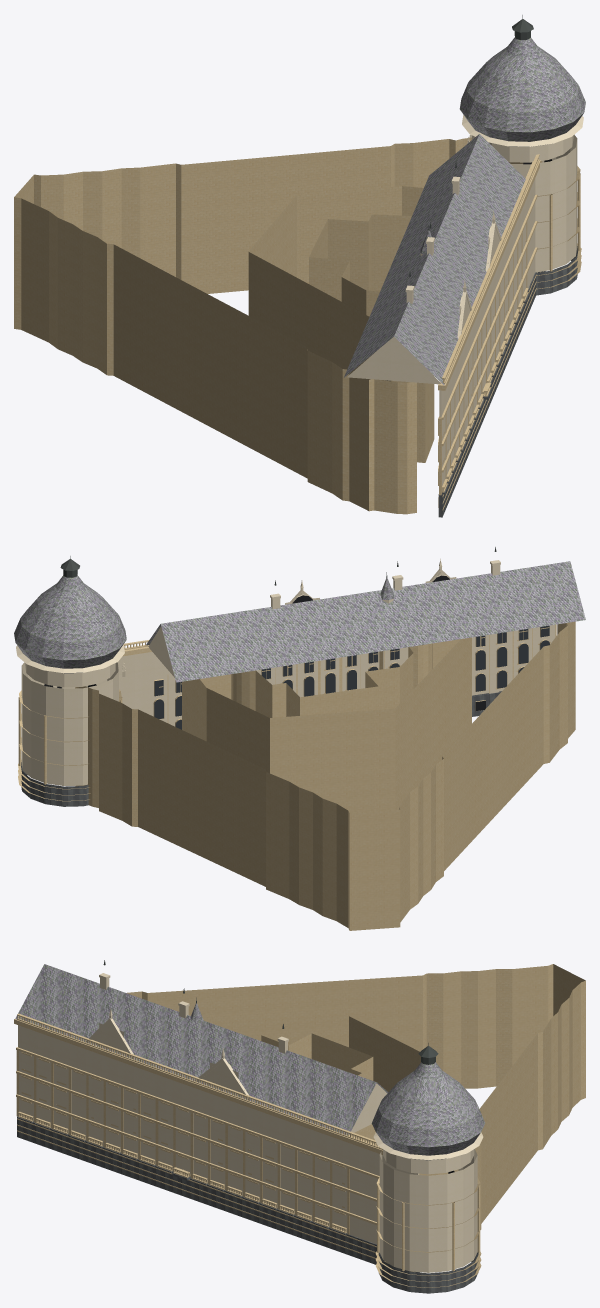
3 renders of one model, top to bottom at view 1: azimuth 30°, elevation 25°; view 2: azimuth 150°, elevation 25°; view 3: azimuth 270°, elevation 25°, orthographic. The views are drawn at different scales.
Parts seen in each view (by area): view 1: bldg_12470557_landmark; view 2: bldg_12470557_landmark; view 3: bldg_12470557_landmark.
Boxes of the visible parts, x1,y1,x2,y2 form: bldg_12470557_landmark: [14, 15, 585, 517]; bldg_12470557_landmark: [14, 547, 585, 930]; bldg_12470557_landmark: [14, 960, 585, 1293].
Bounding box in the file's own units: 72.69 × 36.35 × 81.65.
9 materials, 5 textured.
